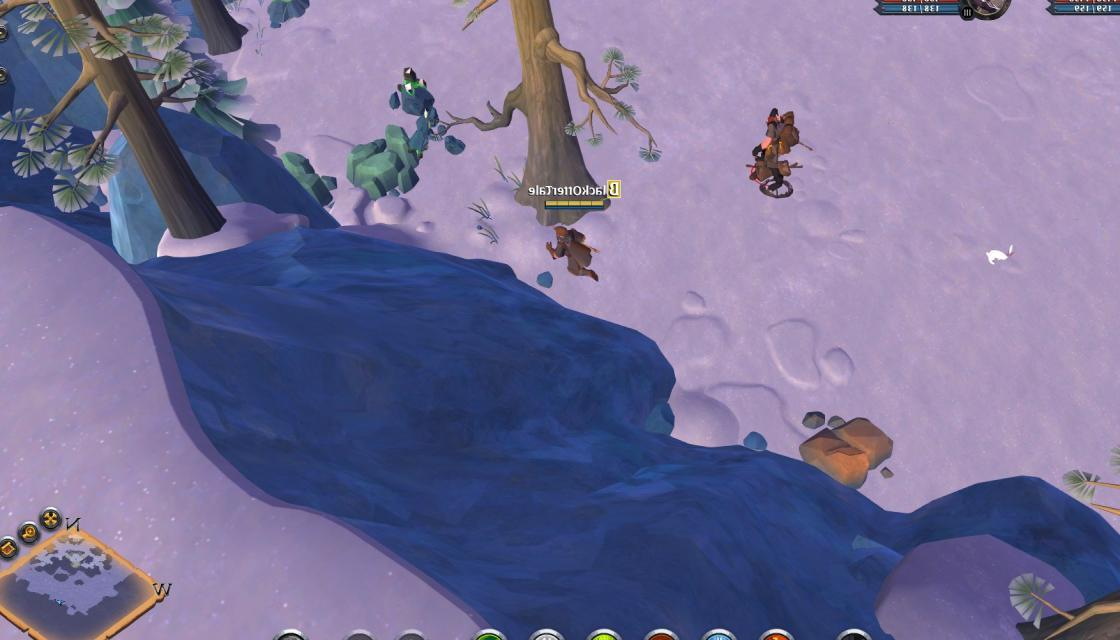limestone: (795, 414, 898, 489)
sandstone: (346, 120, 426, 204), (276, 142, 341, 214)
